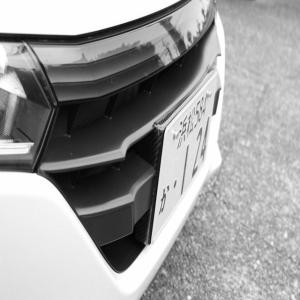Plate: (151, 71, 218, 244)
